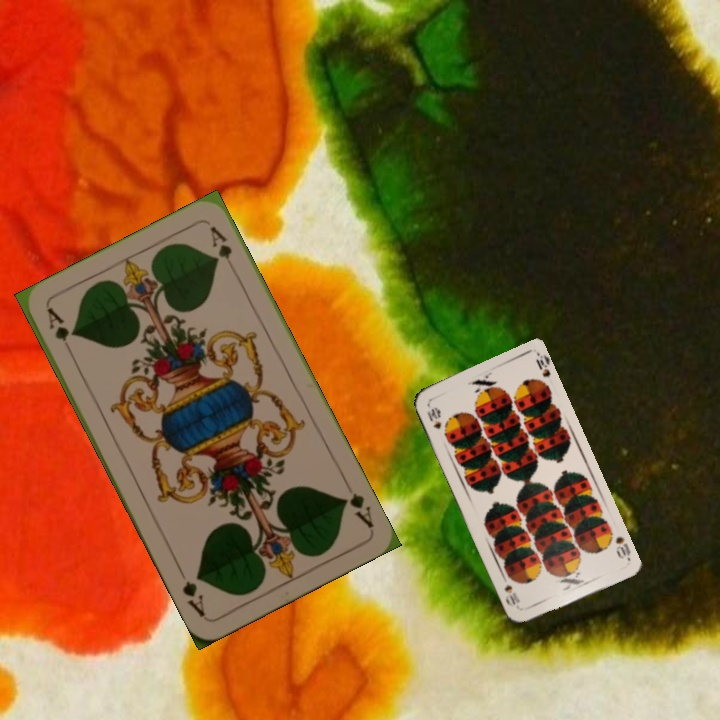GA: (43, 304, 77, 359), (338, 488, 376, 531)
S10: (423, 400, 444, 432), (611, 532, 633, 562)
